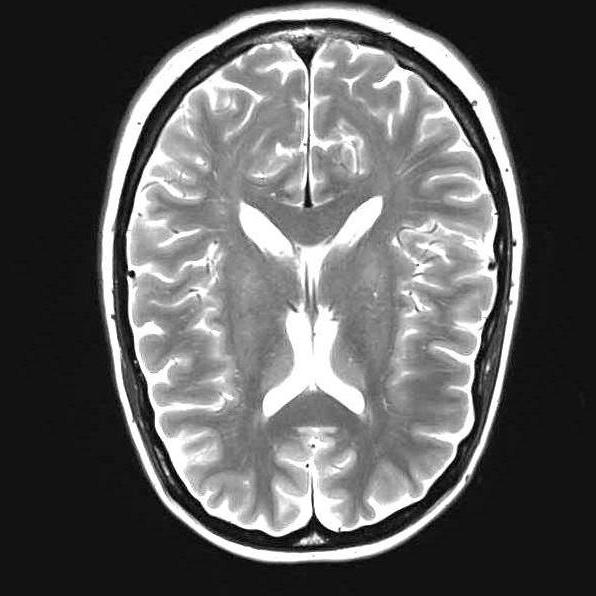Normal_Brain: (58, 1, 596, 596)
